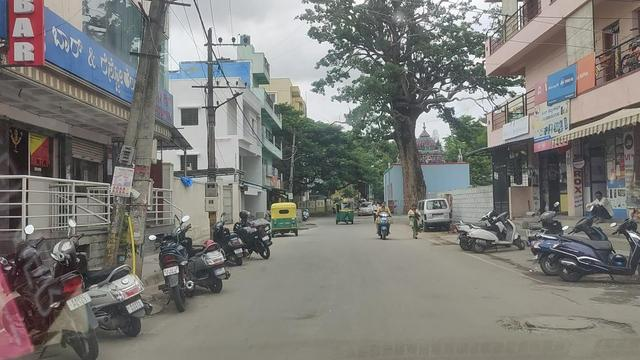RoadDamages: (499, 310, 622, 340)
